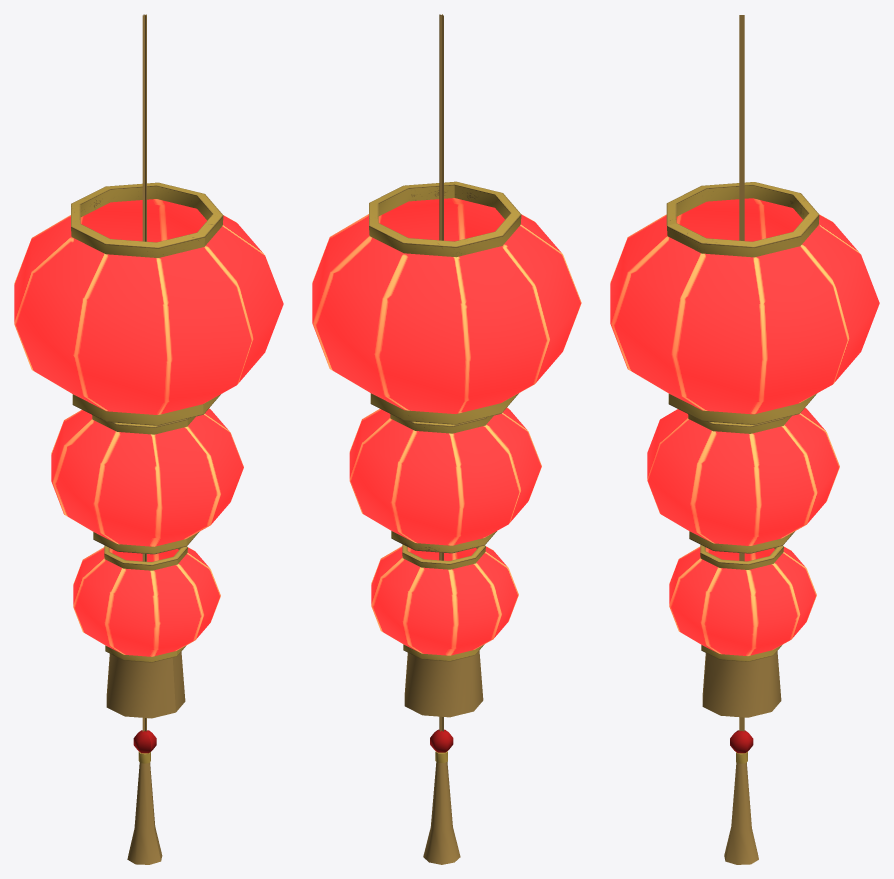
File: lantern03.fbx
The picture shows the model from 3 angles, left to right: view 1: azimuth 30°, elevation 25°; view 2: azimuth 150°, elevation 25°; view 3: azimuth 270°, elevation 25°; orthographic projection.
Parts seen in each view (by area): view 1: lantern03; view 2: lantern03; view 3: lantern03.
Boxes of the visible parts, box(x1,y1,x2,y2) form: lantern03: box(14, 14, 283, 864); lantern03: box(312, 14, 581, 864); lantern03: box(610, 15, 879, 864).
Size of the model in its own units: 58.89 by 200 by 58.
Materials: 1 (1 with a texture image).
